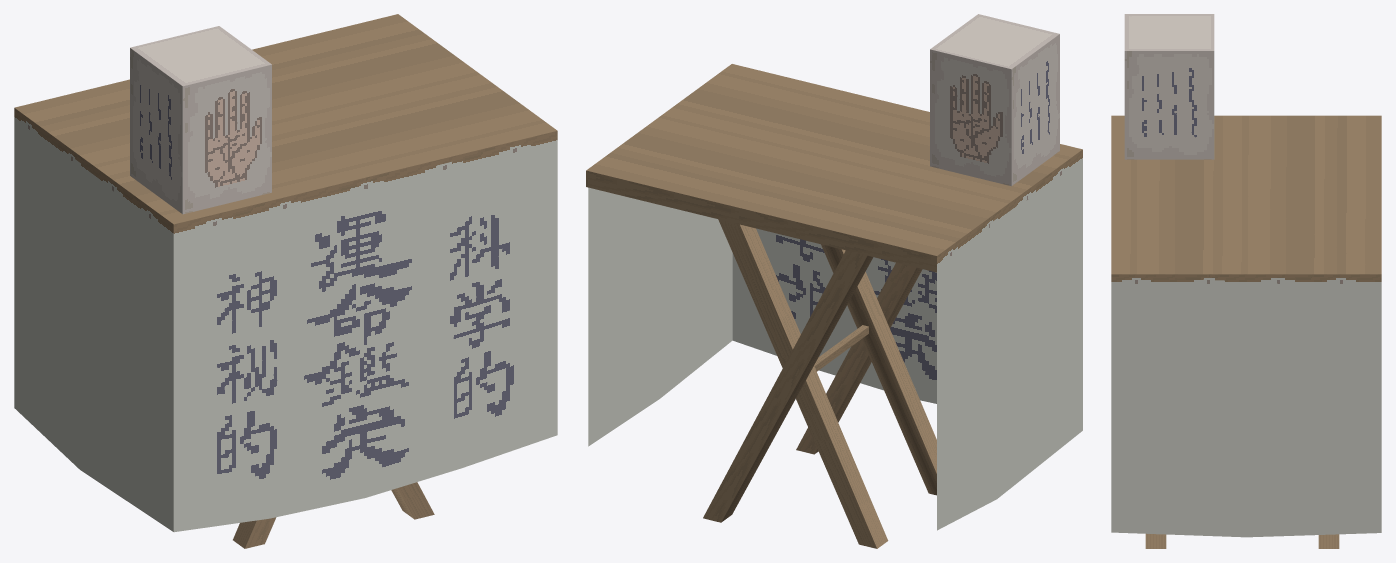
Rendered from 0502_Palmistry_Table.glb.
3 renders of one model, left to right at view 1: azimuth 30°, elevation 25°; view 2: azimuth 150°, elevation 25°; view 3: azimuth 270°, elevation 25°, orthographic. The views are drawn at different scales.
Visible parts, largest first — view 1: part_0; view 2: part_0; view 3: part_0.
Part boxes in pixels (x1,y1,x2,y2): part_0: (14, 14, 557, 548); part_0: (586, 14, 1082, 548); part_0: (1111, 14, 1381, 548).
Size of the model in its own units: 0.8864 by 1.11 by 0.6381.
Materials: 1 (1 with a texture image).
